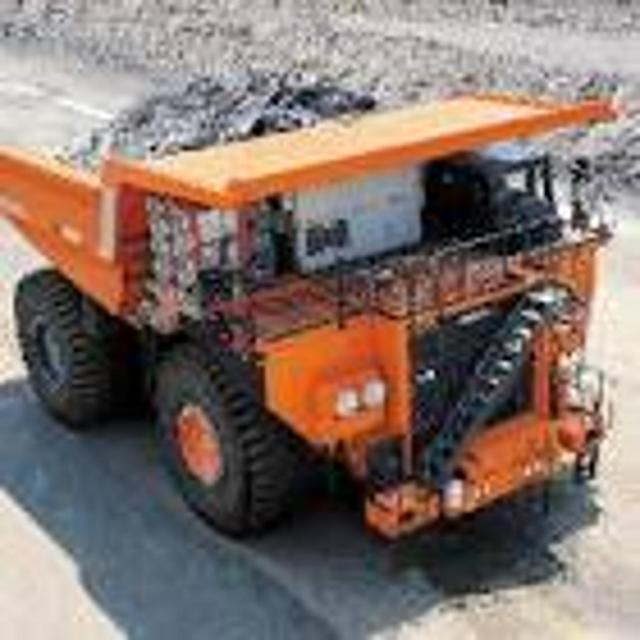dump_truck: (0, 79, 634, 566)
